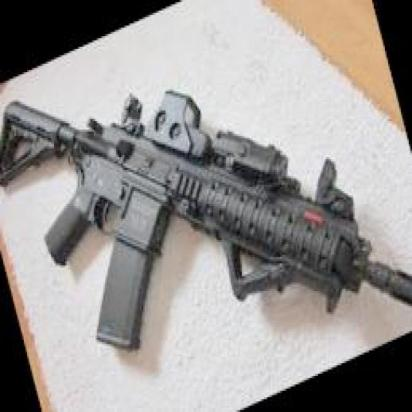Gun: (12, 92, 394, 346)
